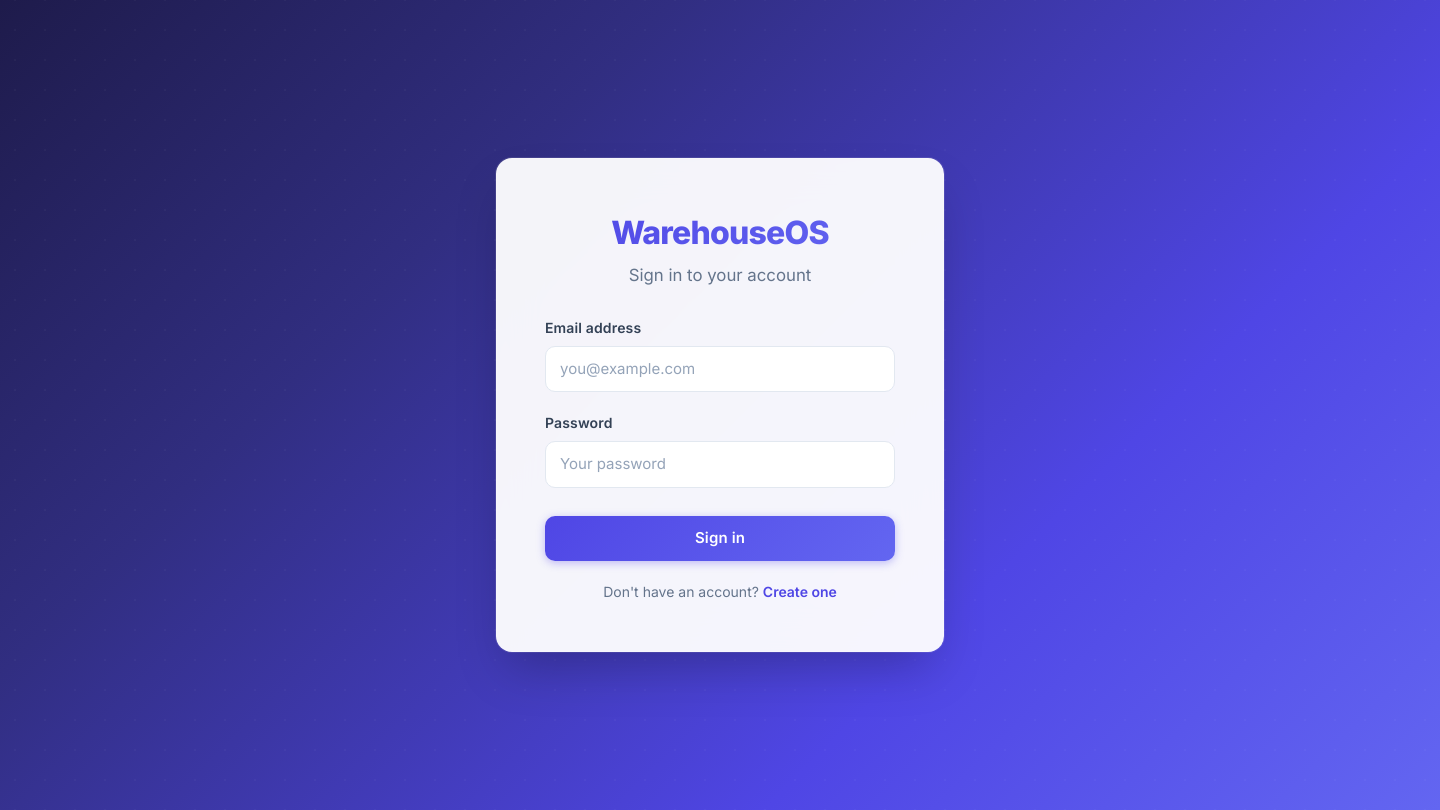
Test case: LoginForm › displays error message on failed login
The width and height of the screenshot is (1440, 810).
Type "john@example.com" into the field labelled "Email address" at (720, 369), box [545,346,895,392]
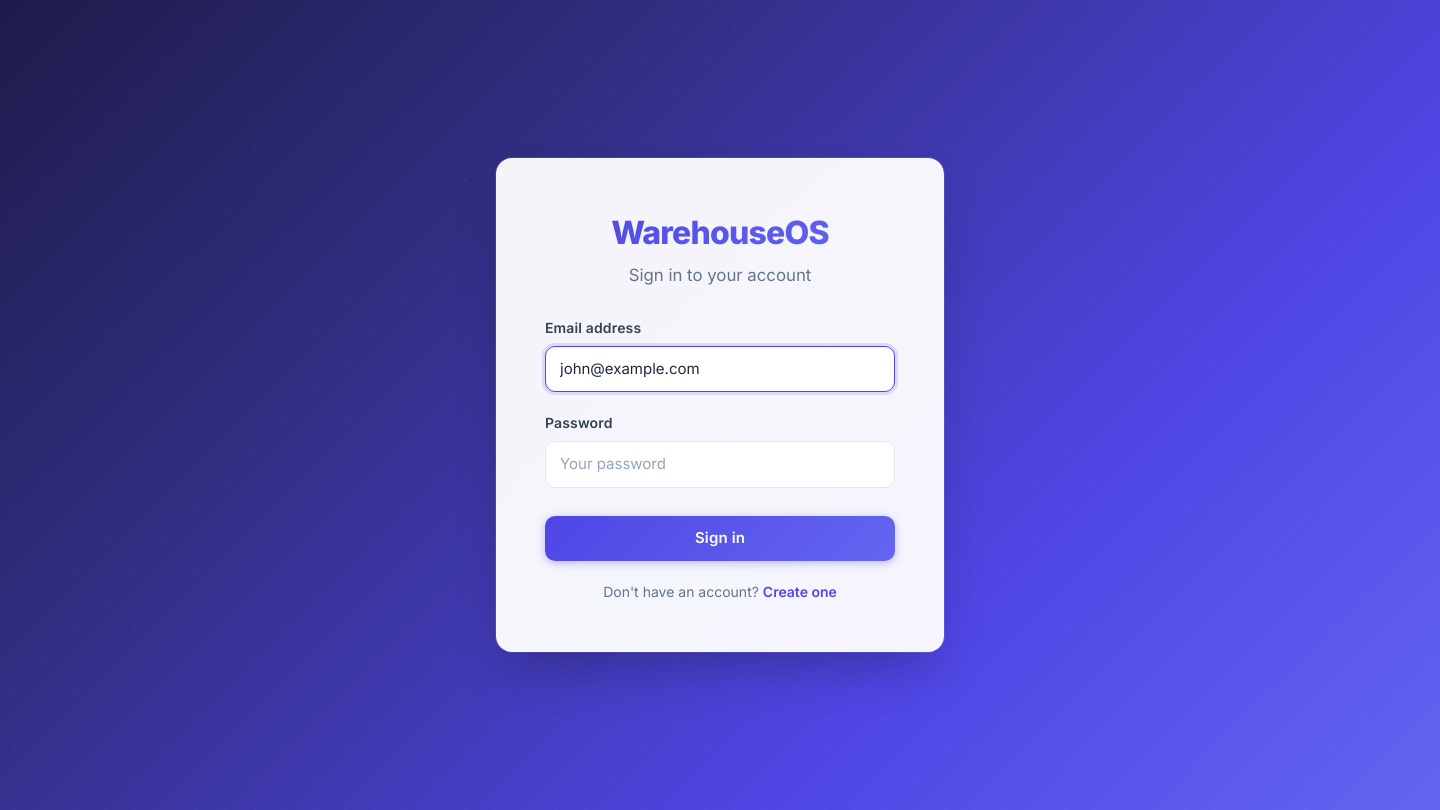
Type "wrongpass" into the password field labelled "Password" at (720, 464), box [545,441,895,488]
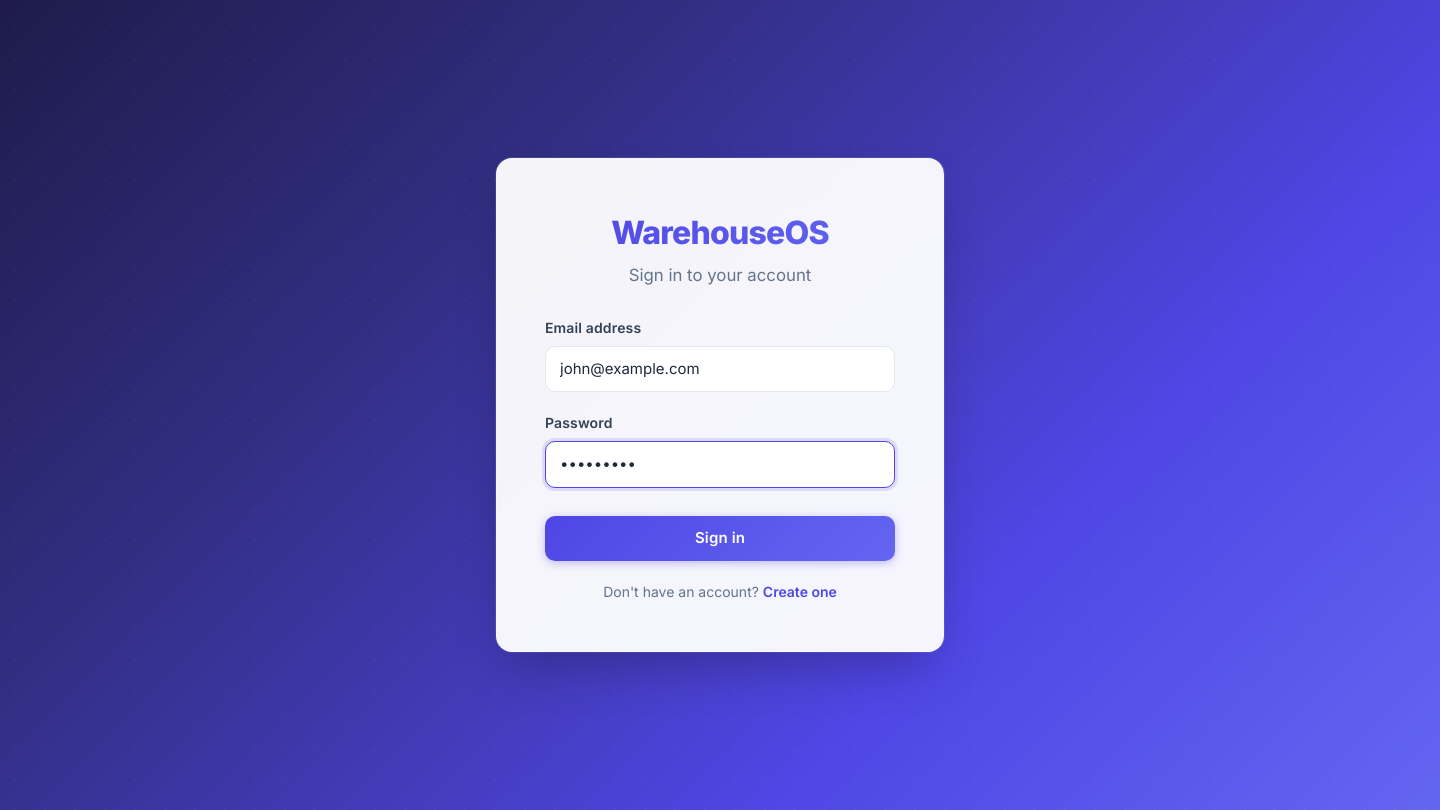
Click the button "Sign in" at (720, 538), box [545,516,895,561]
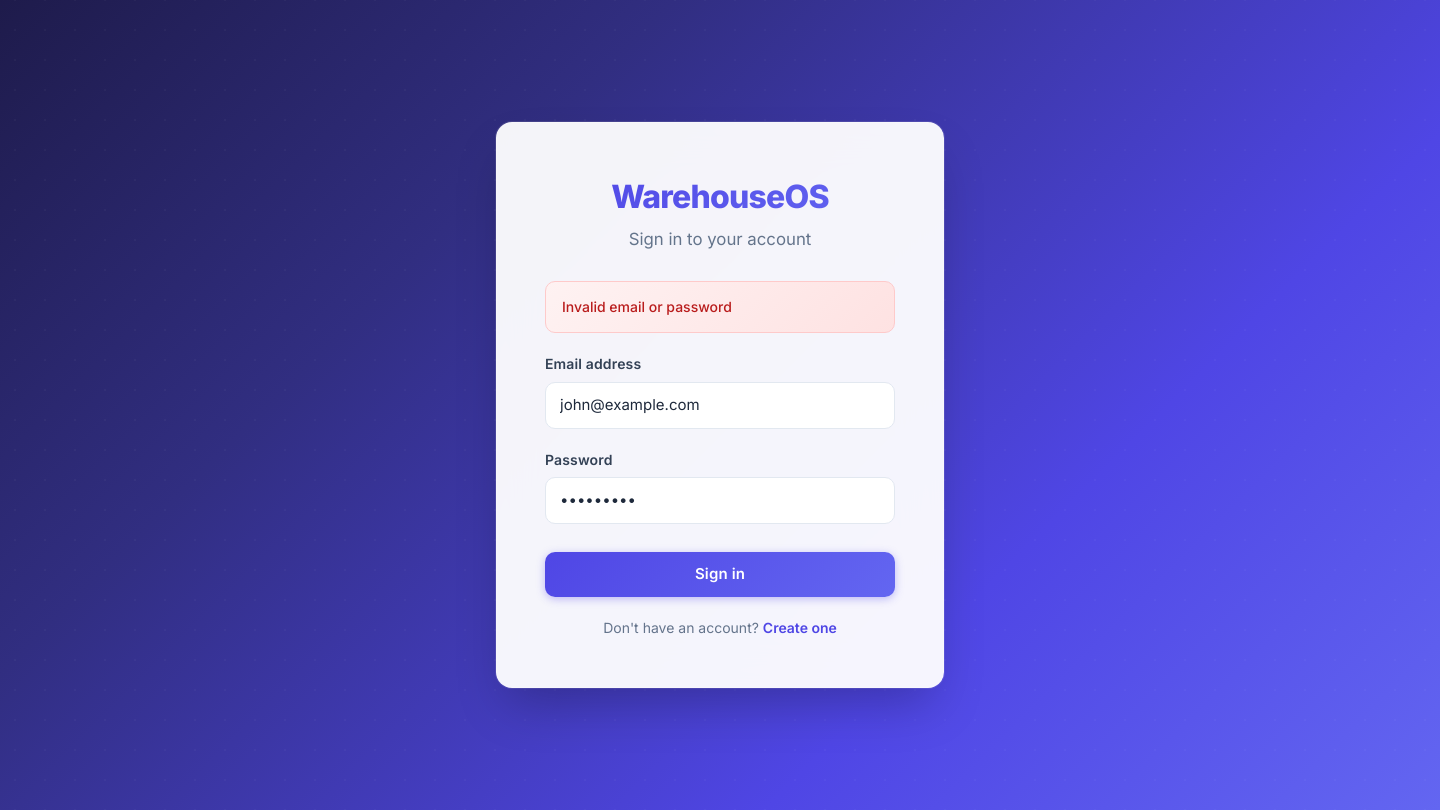
Expected: the text "Invalid email or password" is shown, [562,296,732,318]
